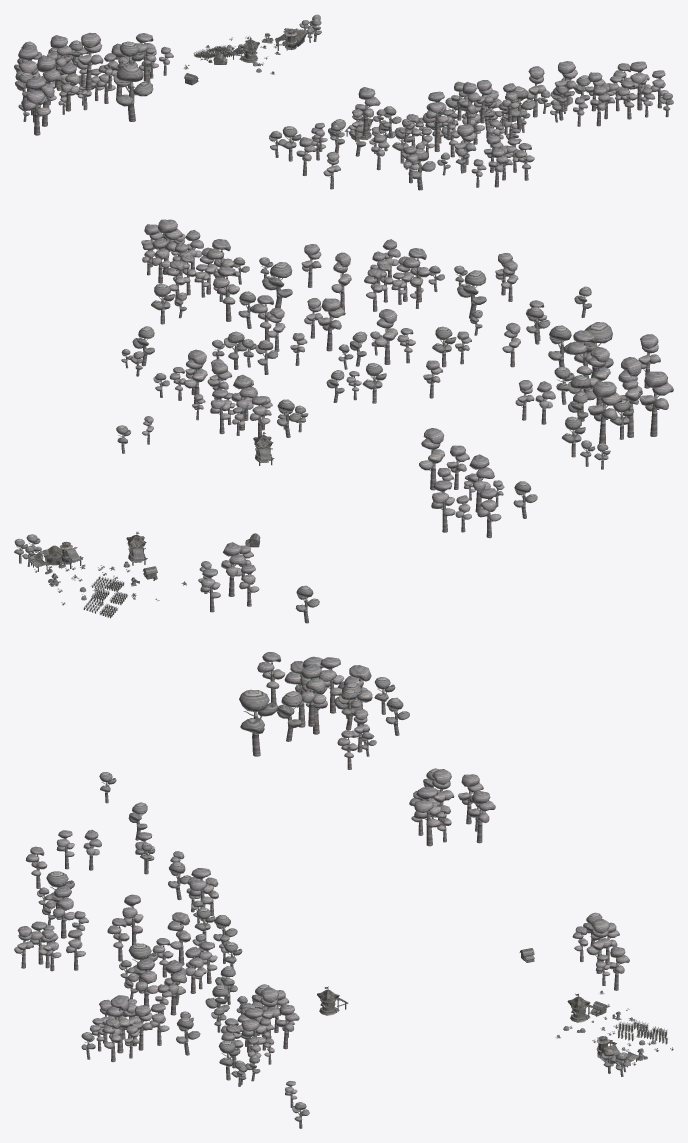
Rendered from asset_02.fbx.
3 views of the same model, one above another, from view 1: azimuth 30°, elevation 25°; view 2: azimuth 150°, elevation 25°; view 3: azimuth 270°, elevation 25° (orthographic). The views are drawn at different scales.
Parts seen in each view (by area): view 1: asset_3_89.002, asset_4_152.002, asset_4_153.001, asset_4_147.002, asset_4_150.001, asset_4_149.002, asset_4_149.003, asset_4_152, asset_4_98, asset_4_100, asset_3_89, asset_4_77 (+26 smaller); view 2: asset_4_152.002, asset_4_152.003, H1.001, asset_4_147.002, asset_4_7.001, asset_4_153.001, asset_4_168.001, asset_3_89, asset_4_152, asset_4_100, asset_3_89.003, asset_4_168.002 (+9 smaller); view 3: asset_3_89.002, asset_4_153.001, asset_4_7.001, asset_4_149.003.
Boxes of the visible parts, bbox=[...] form: asset_3_89.002: bbox=[113, 64, 153, 121]; asset_4_152.002: bbox=[22, 77, 50, 135]; asset_4_153.001: bbox=[77, 32, 103, 90]; asset_4_147.002: bbox=[37, 55, 61, 126]; asset_4_150.001: bbox=[60, 62, 80, 110]; asset_4_149.002: bbox=[355, 87, 380, 136]; asset_4_149.003: bbox=[47, 35, 73, 87]; asset_4_152: bbox=[426, 91, 448, 138]; asset_4_98: bbox=[554, 61, 577, 111]; asset_4_100: bbox=[526, 66, 546, 117]; asset_3_89: bbox=[506, 86, 535, 129]; asset_4_77: bbox=[628, 61, 648, 110]; asset_4_152.002: bbox=[639, 371, 673, 436]; asset_4_152.003: bbox=[588, 381, 622, 443]; H1.001: bbox=[29, 541, 83, 571]; asset_4_147.002: bbox=[618, 357, 642, 437]; asset_4_7.001: bbox=[419, 428, 444, 490]; asset_4_153.001: bbox=[567, 330, 595, 392]; asset_4_168.001: bbox=[467, 454, 494, 512]; asset_3_89: bbox=[262, 262, 292, 308]; asset_4_152: bbox=[318, 298, 345, 351]; asset_4_100: bbox=[213, 266, 239, 321]; asset_3_89.003: bbox=[457, 270, 486, 318]; asset_4_168.002: bbox=[221, 542, 246, 596]; asset_3_89.002: bbox=[239, 689, 277, 756]; asset_4_153.001: bbox=[301, 663, 326, 726]; asset_4_7.001: bbox=[414, 787, 441, 846]; asset_4_149.003: bbox=[318, 657, 344, 713].
Size of the model in its own units: 1679 by 618 by 1562.
